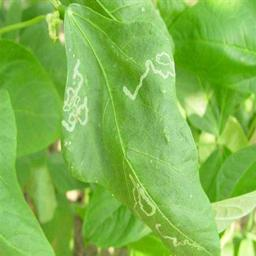liriomyza: (121, 51, 176, 102), (59, 58, 88, 133), (154, 222, 207, 250), (128, 171, 156, 218)
